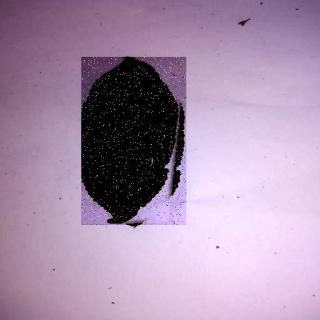Anthracnose: (83, 58, 188, 226)
